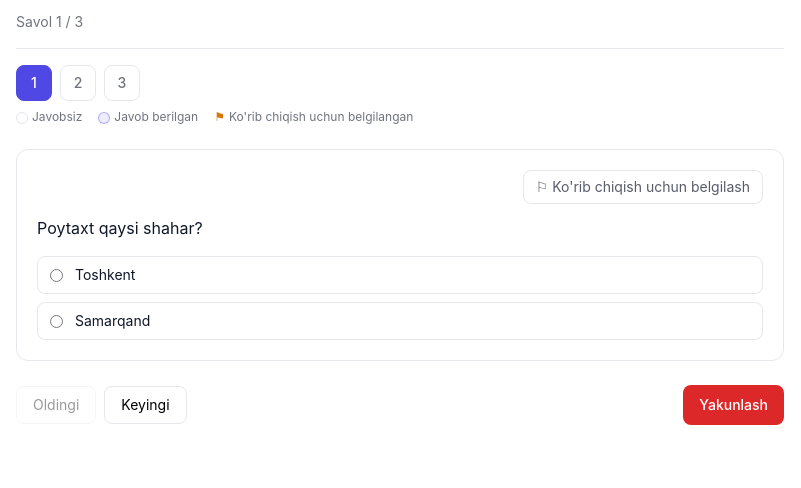
Scenario: AttemptPage — Sprint 67 (C2) multiple_choice support › TEST 1: multiple_choice question renders checkbox inputs, not radios
Expected: the text "Toshkent" is shown, 75,265 -> 135,285
Click the button "Keyingi".
click(145, 405)  # box 104,386 -> 187,424
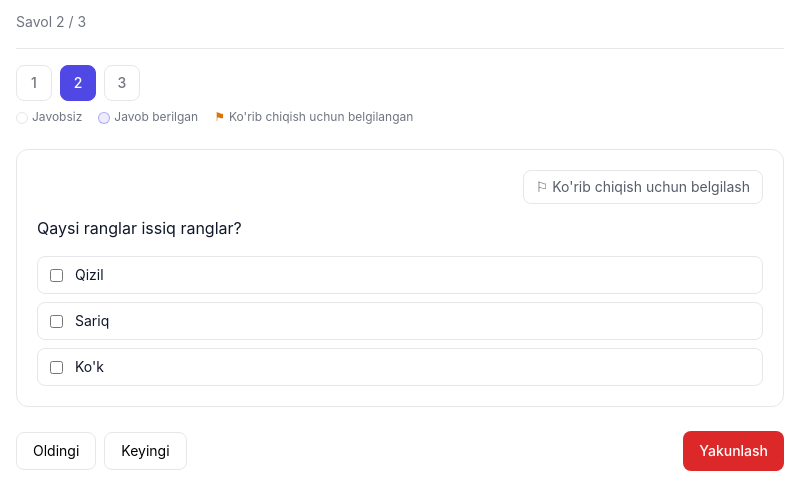
Result: the text "Qizil" is shown at 75,265 -> 104,285
Result: the checkbox labelled "Qizil" is shown at 50,268 -> 63,282
Result: the radio button is gone
